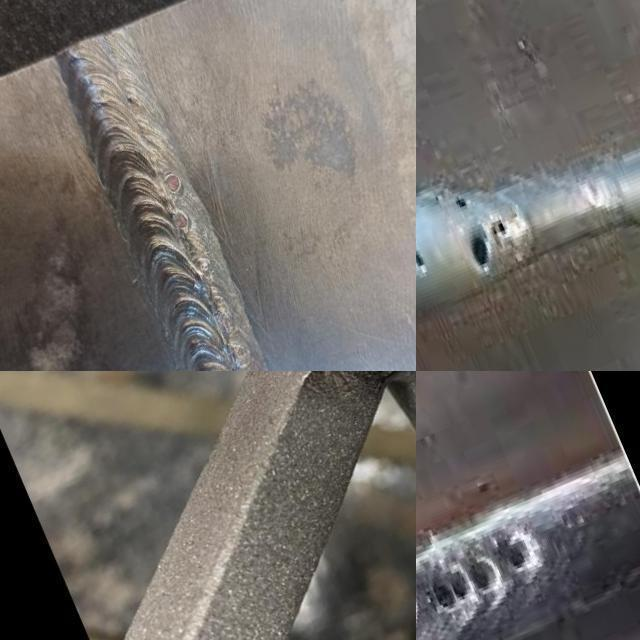defect: (423, 528, 537, 620), (465, 217, 509, 273), (448, 183, 474, 217), (161, 164, 184, 194), (214, 305, 236, 332), (170, 206, 189, 234), (226, 340, 248, 362), (416, 245, 431, 276), (125, 91, 138, 106)
